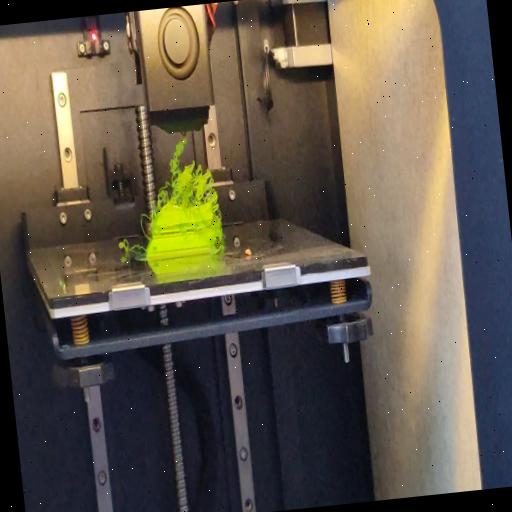spaghetti: (146, 130, 220, 214), (112, 237, 147, 254), (140, 208, 152, 242), (212, 242, 226, 254)
